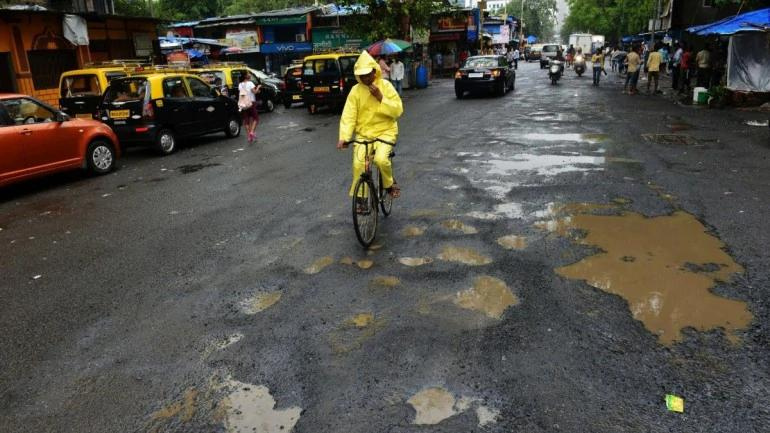Pothole: (552, 181, 765, 363), (188, 330, 303, 433), (499, 96, 610, 144), (640, 114, 724, 154)
